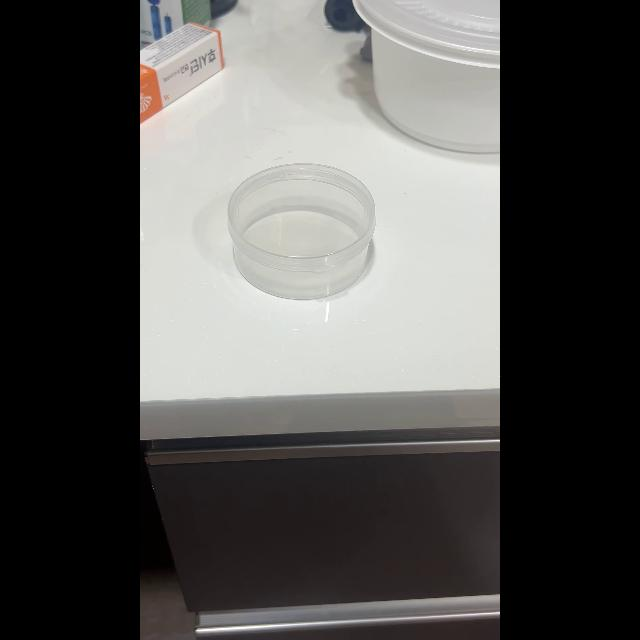clean: (226, 161, 376, 299)
